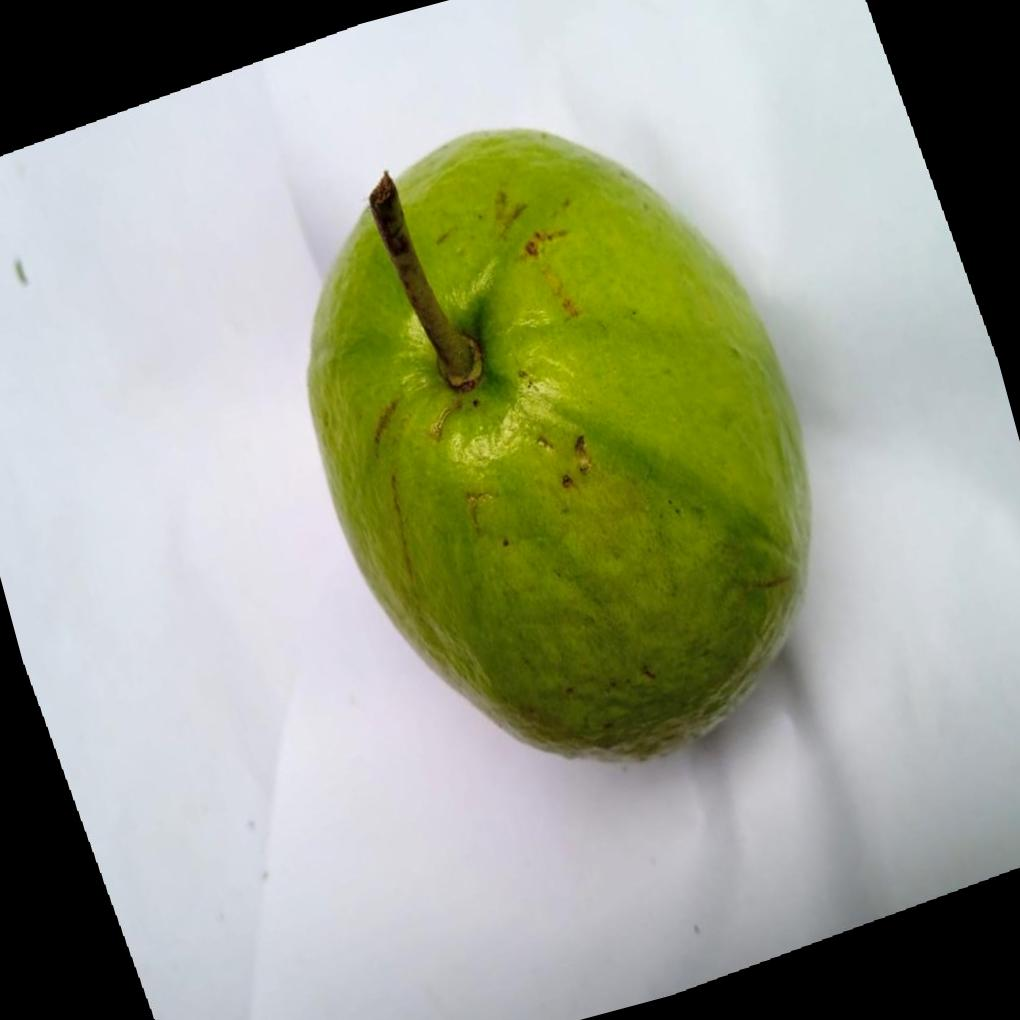FreshGuava: (308, 124, 816, 764)
